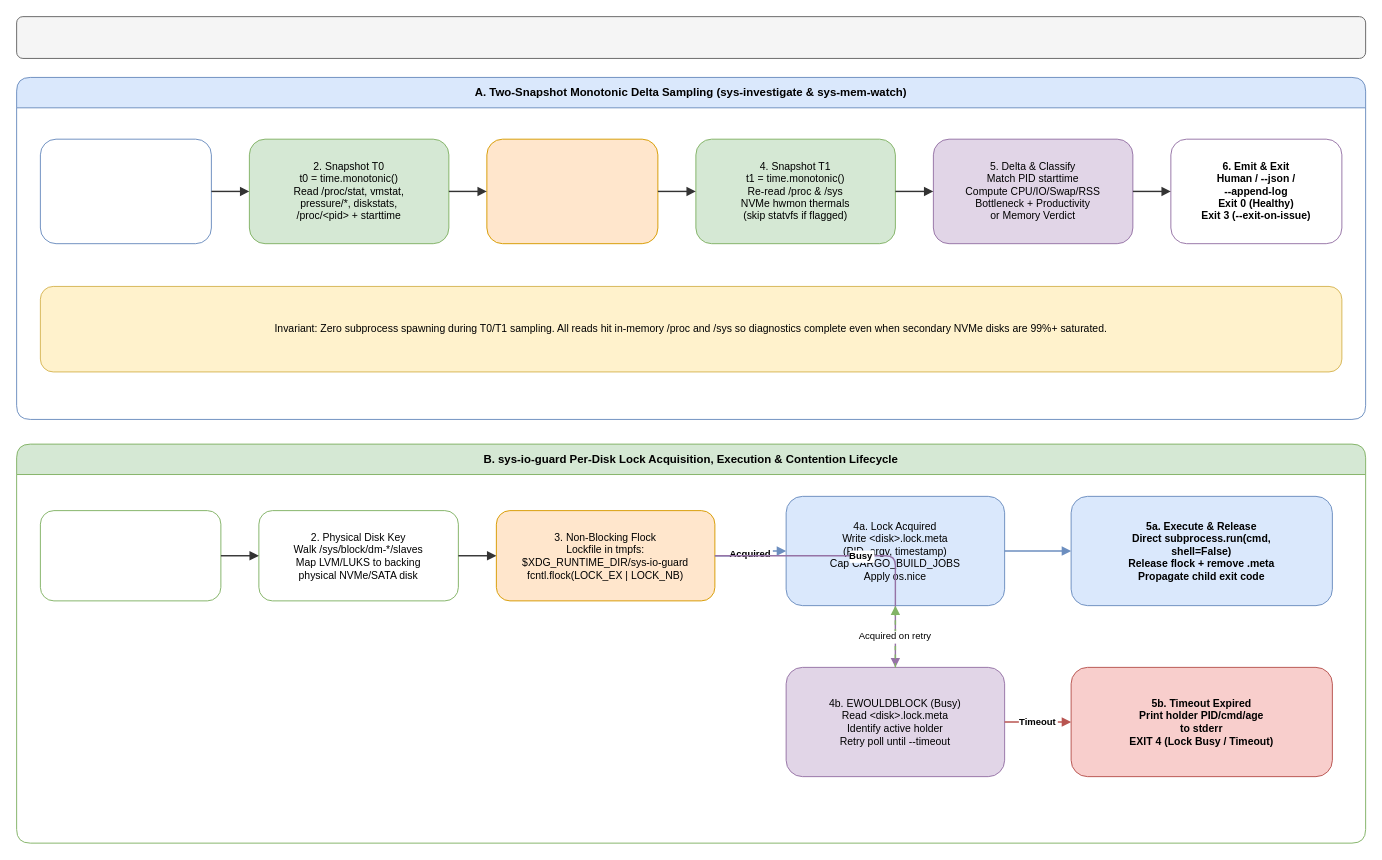
Some shapes in this 1382 by 860 pixel diagram are drawn without their labels. The centre of each missing label's shape, as x and y in pixels:
1. CLI Argparse --interval, --json --diagnose-pid --progress-check --no-statvfs: [125,191]
1. Resolve Target Path Read /proc/mounts (longest mount prefix): [130,555]
3. Monotonic Wait Sleep interval dt (or multi-sample --progress-check loop): [572,191]
Execution Lifecycle: Two-Snapshot Delta Sampling & Per-Disk Lock Guard: [691,37]
